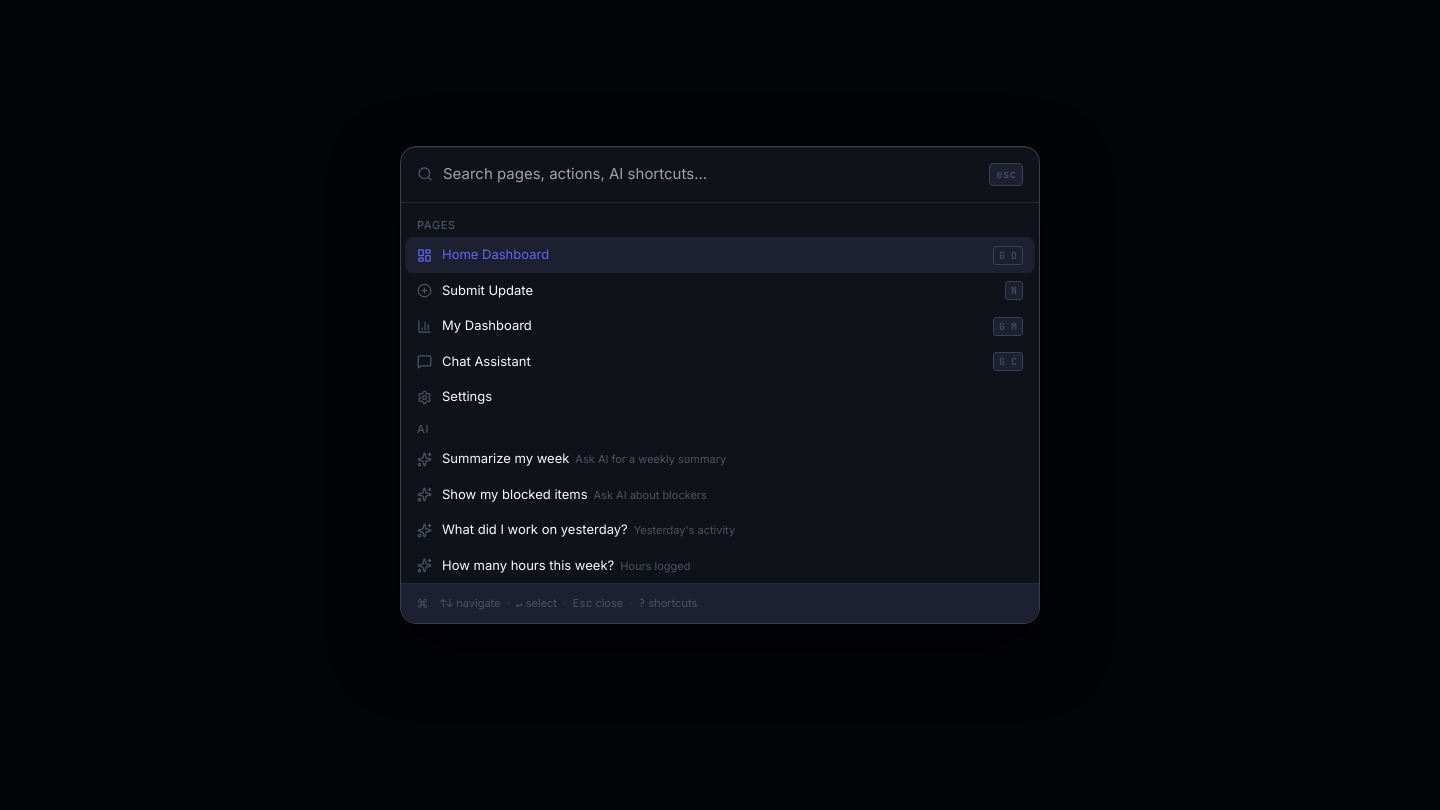
Test: CommandPalette › typing filters results
Type "chat" into the field at (711, 174), box [443,163,979,186]
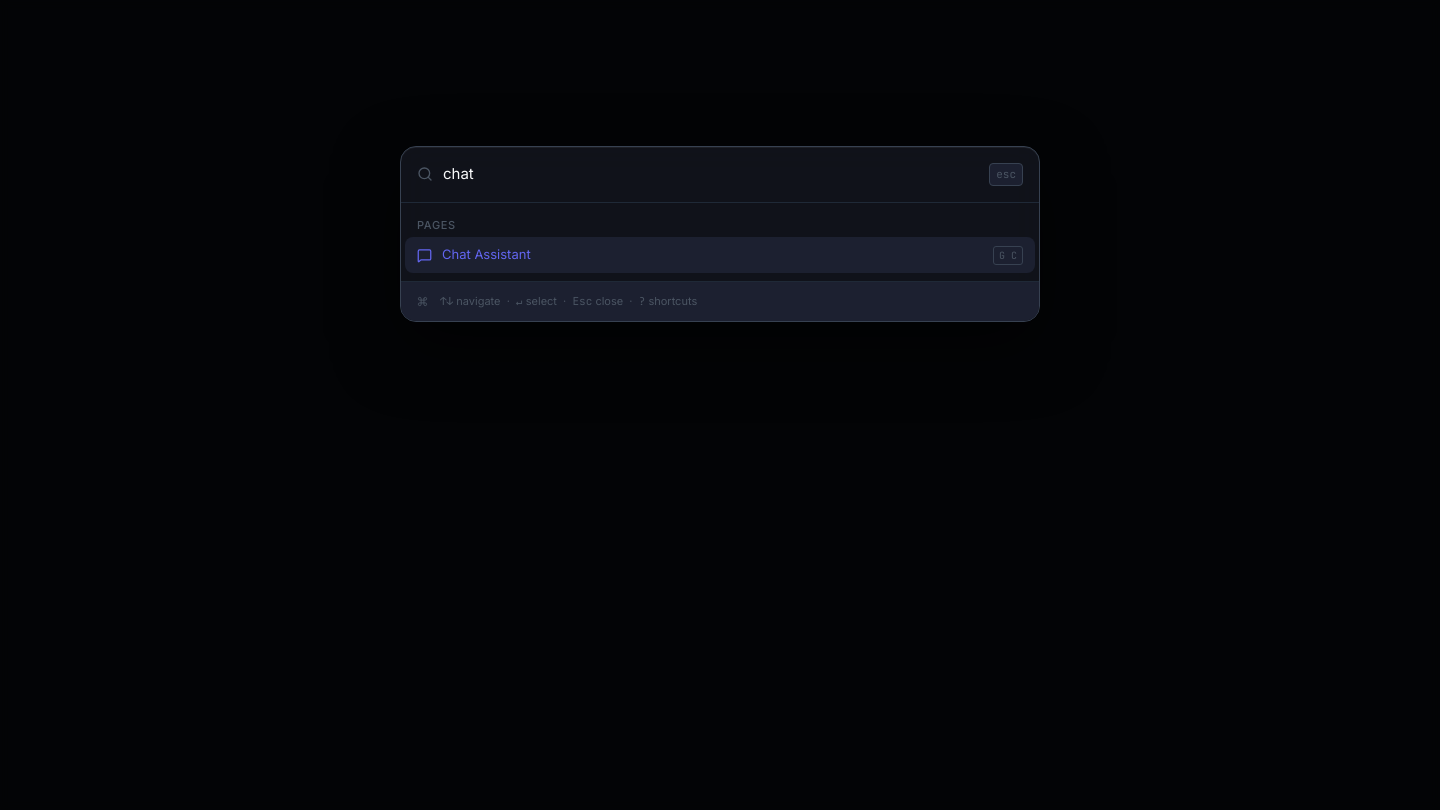
Expected: the text "Chat Assistant" is shown, [442,246,531,262]
Expected: the button "Home Dashboard" is gone
